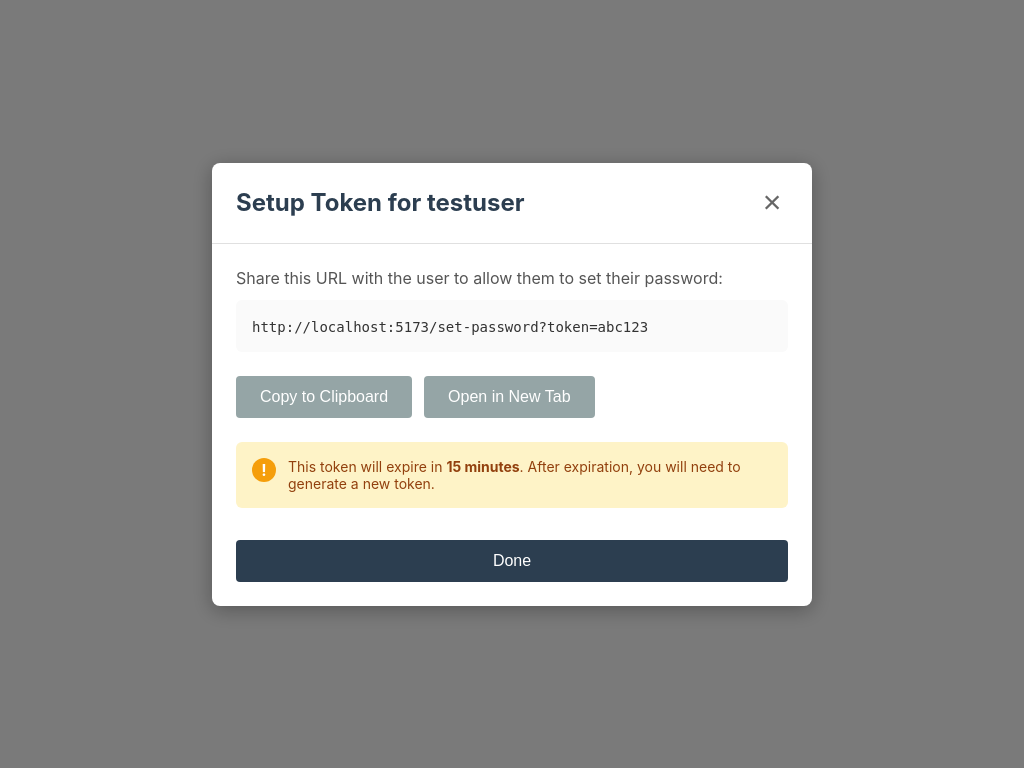
Test: GenerateTokenModal › Copy to Clipboard › shows copied message after clicking copy button
This screenshot has width=1024, height=768.
What coordinates should you click on to do the following:
click the button "Copy to Clipboard"
I would click on:
 (324, 396)
Its box is left=236, top=376, right=412, bottom=418.
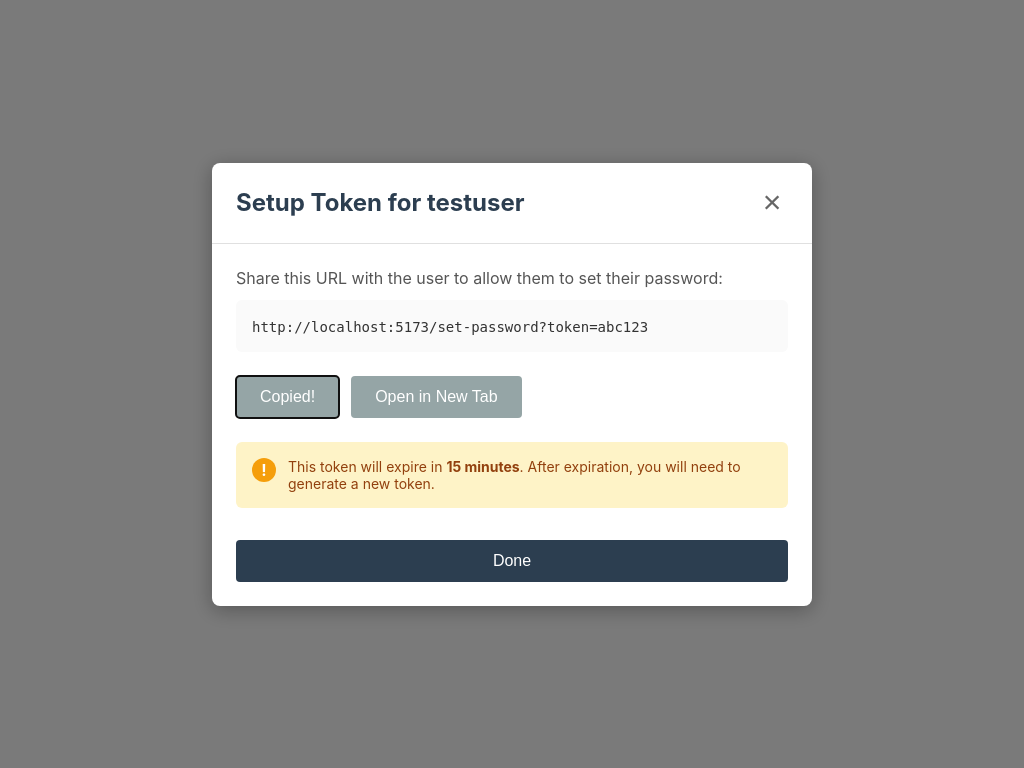
expect the button "Copied!" is shown: met, box left=236, top=376, right=339, bottom=418
